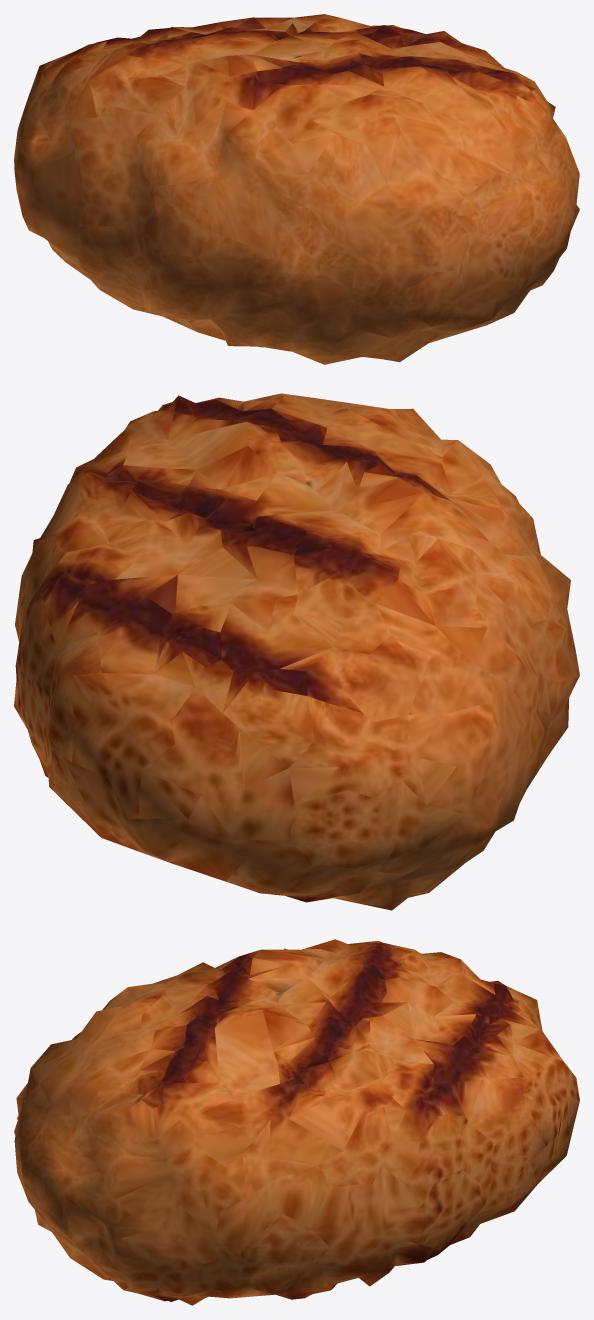
Rendered from kofte.glb.
3 renders of one model, top to bottom at view 1: azimuth 30°, elevation 25°; view 2: azimuth 150°, elevation 25°; view 3: azimuth 270°, elevation 25°, orthographic. The views are drawn at different scales.
Visible parts, largest first — view 1: Mesh_0; view 2: Mesh_0; view 3: Mesh_0.
Boxes of the visible parts, x1=… form: Mesh_0: x1=14, y1=14, x2=579, y2=364; Mesh_0: x1=14, y1=393, x2=579, y2=910; Mesh_0: x1=14, y1=939, x2=579, y2=1305.
Size of the model in its own units: 0.1057 by 0.0659 by 0.12.
1 material, 1 textured.
